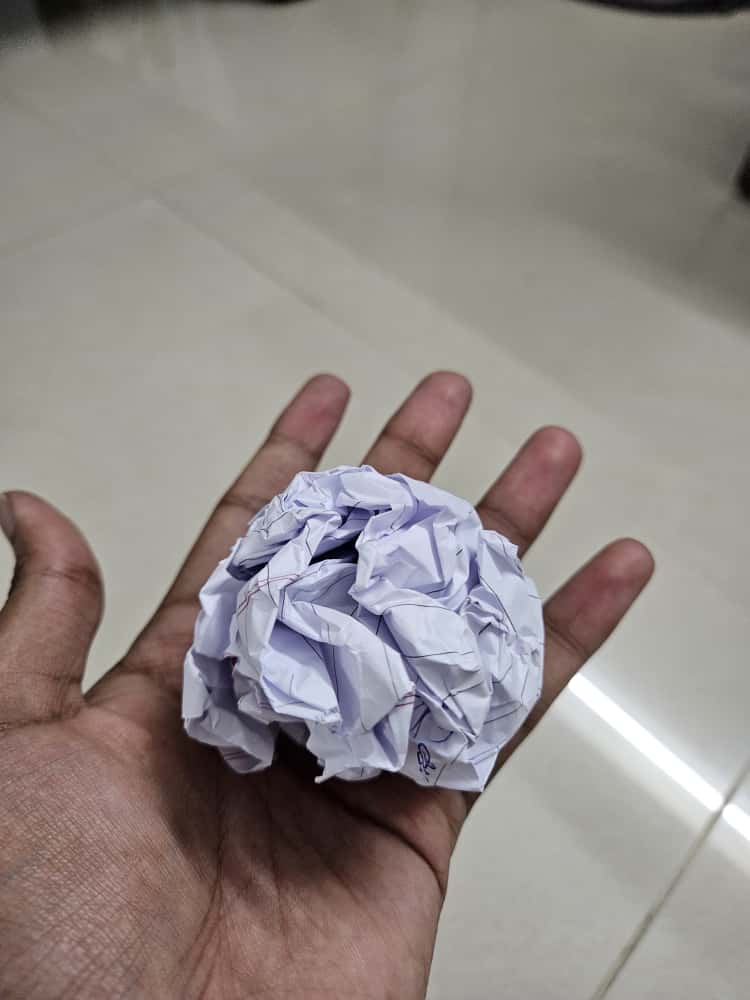dry: (154, 420, 570, 824)
